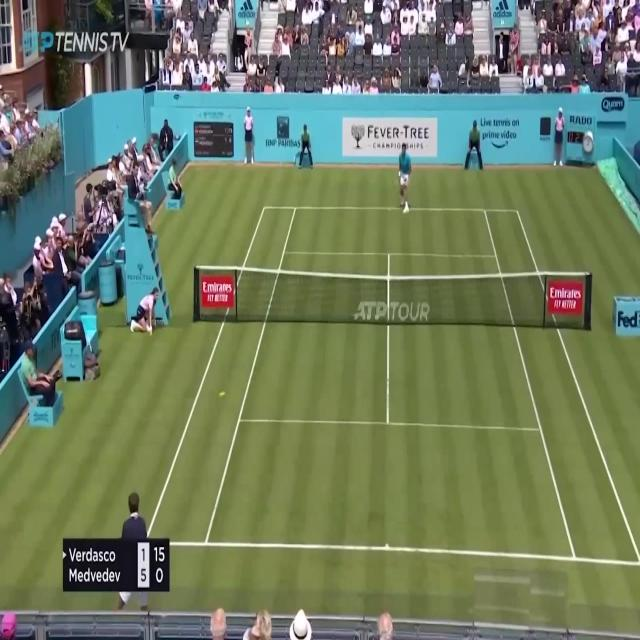bottom-dead-zone: (205, 420, 576, 559)
court: (143, 207, 640, 563)
left-doubles-alley: (144, 207, 296, 545)
left-service-box: (238, 252, 389, 424)
net: (192, 264, 593, 333)
right-doubles-alley: (486, 211, 640, 564)
right-service-box: (387, 254, 540, 428)
top-dead-zone: (283, 208, 496, 256)
